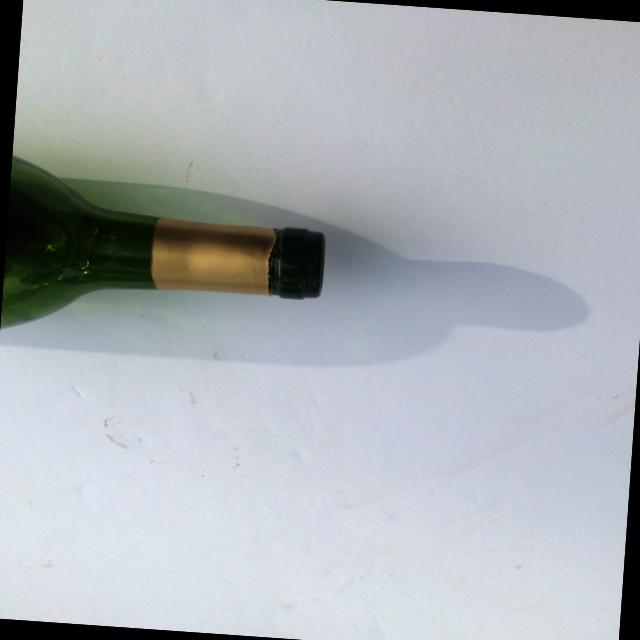Glass: (0, 152, 338, 354)
